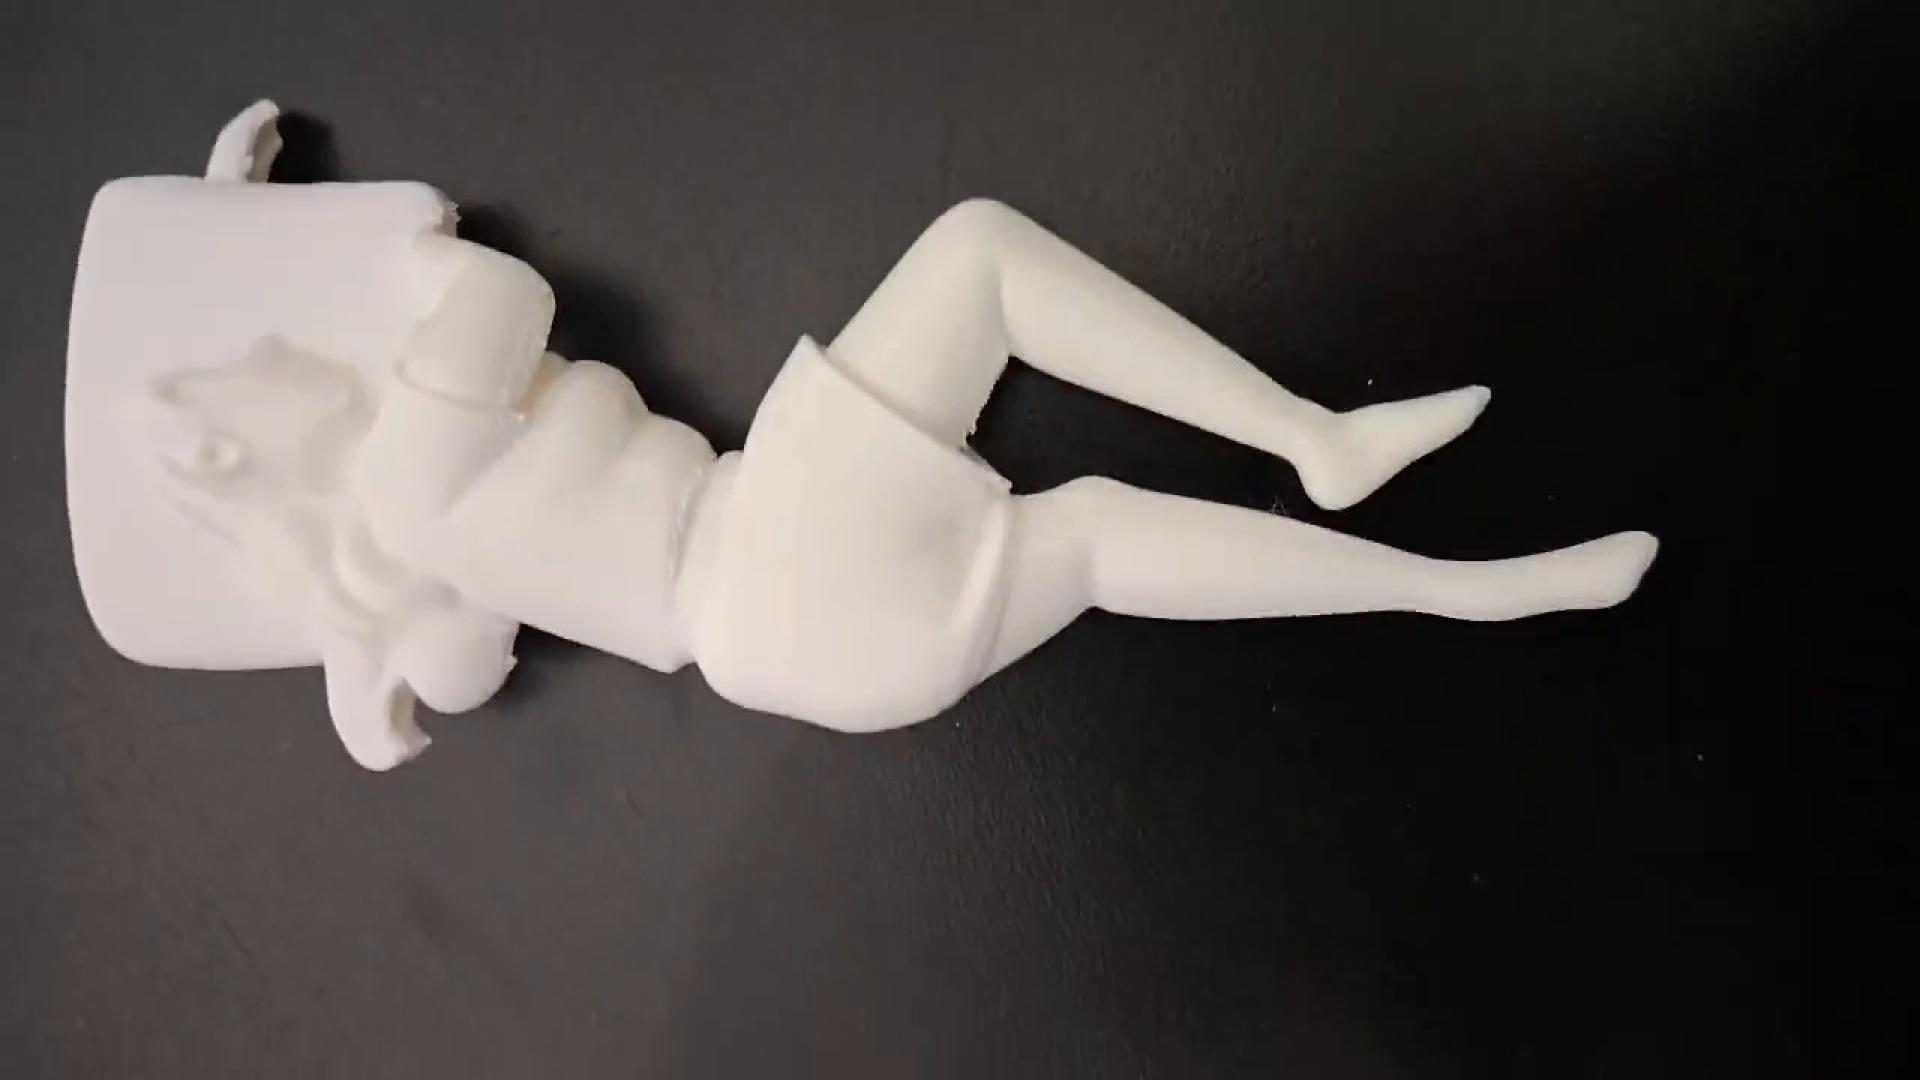Good-style: (69, 90, 1667, 775)
